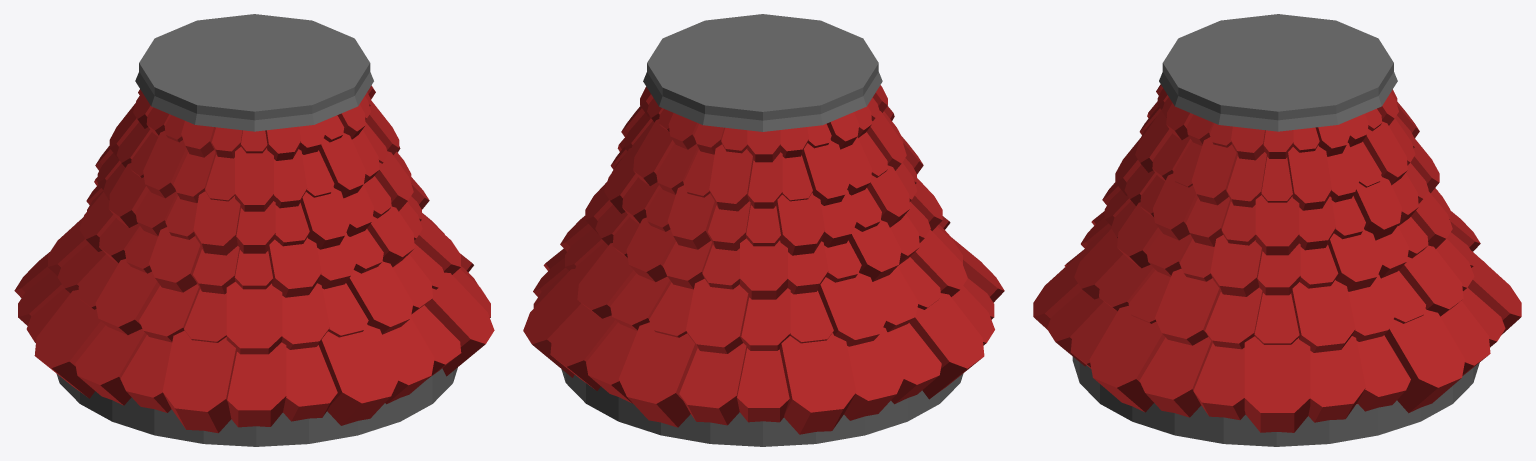
The model's file is Prop_Building_Fantasy_Peak_Roof_Shingles_03.FBX.
The picture shows the model from 3 angles, left to right: view 1: azimuth 30°, elevation 25°; view 2: azimuth 150°, elevation 25°; view 3: azimuth 270°, elevation 25°; orthographic projection.
Parts seen in each view (by area): view 1: Prop_Building_Fantasy_Peak_Roof_Shingles_03; view 2: Prop_Building_Fantasy_Peak_Roof_Shingles_03; view 3: Prop_Building_Fantasy_Peak_Roof_Shingles_03.
Boxes of the visible parts, x1,y1,x2,y2 form: Prop_Building_Fantasy_Peak_Roof_Shingles_03: (14, 14, 494, 446); Prop_Building_Fantasy_Peak_Roof_Shingles_03: (523, 14, 1004, 446); Prop_Building_Fantasy_Peak_Roof_Shingles_03: (1033, 14, 1521, 446).
Bounding box in the file's own units: 8641 × 5812 × 8641.
